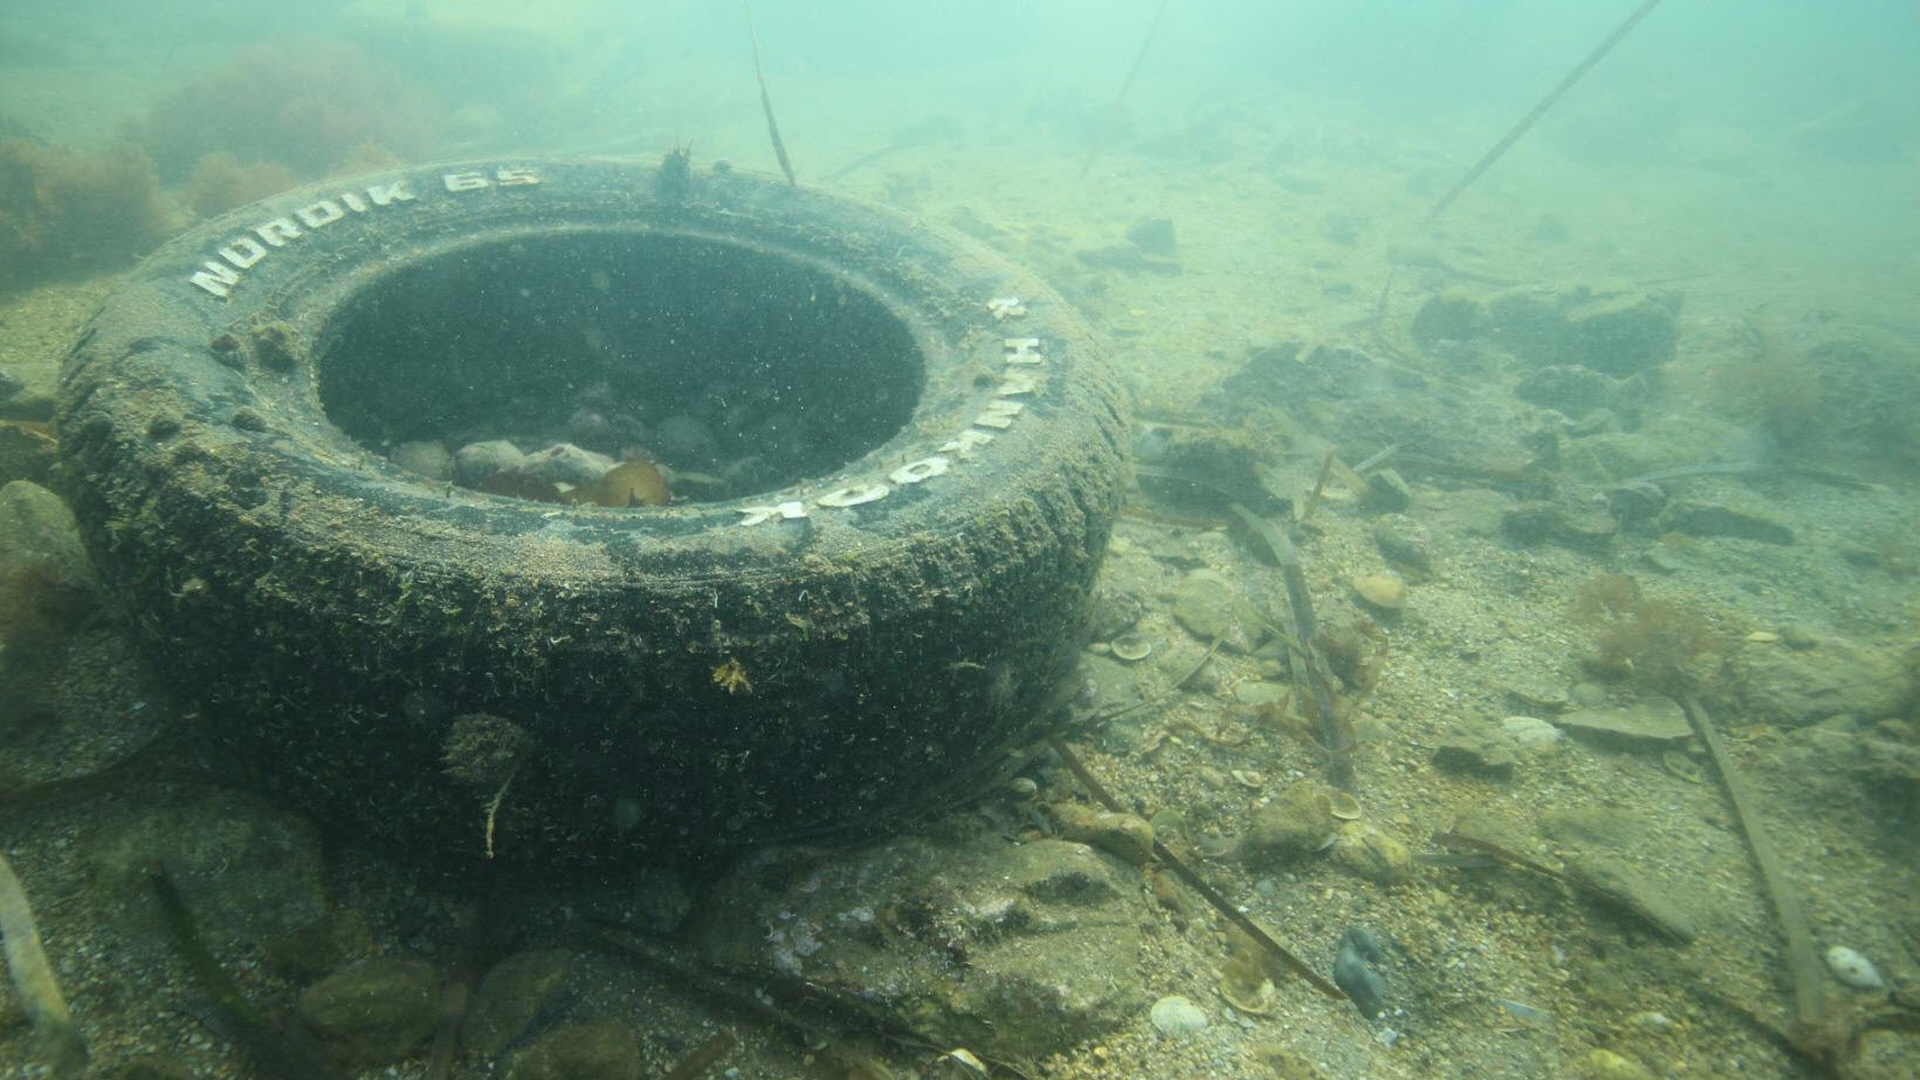tire: (51, 152, 1134, 866)
